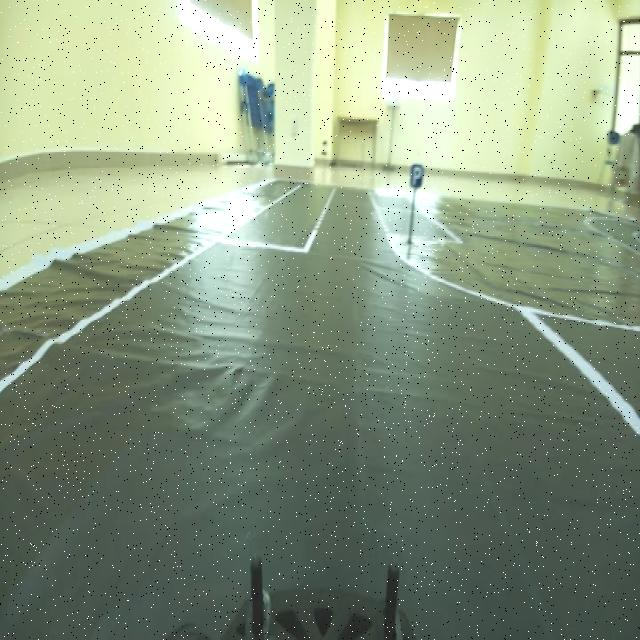parking: (404, 149, 425, 196)
